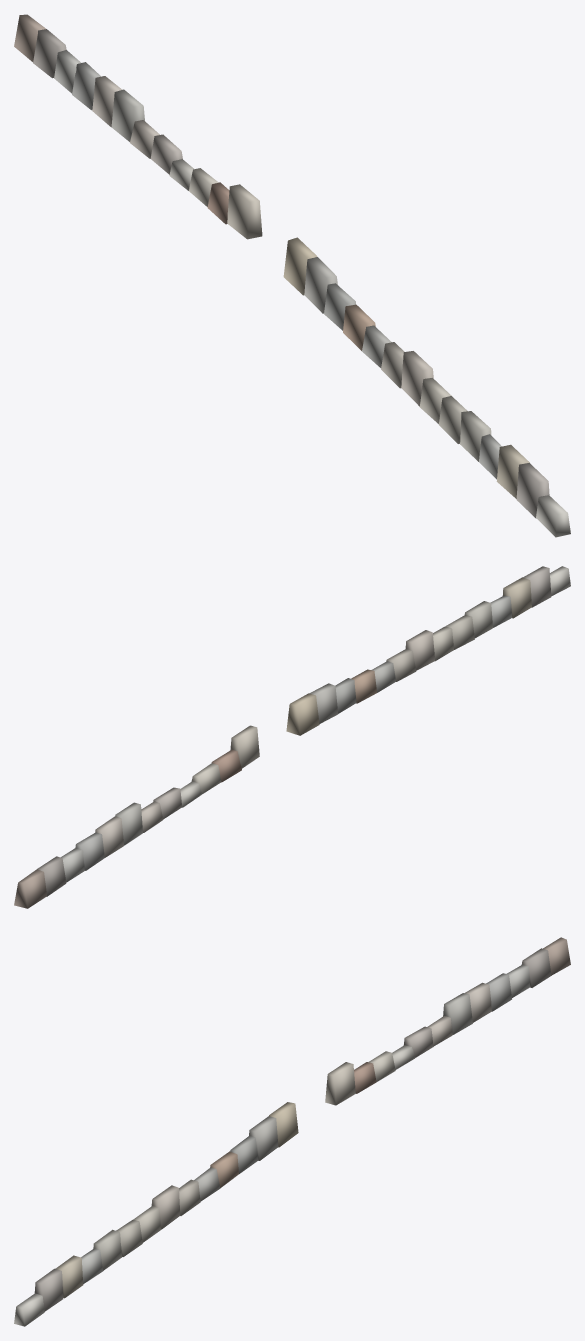
File: farm_21_14_far.glb
3 renders of one model, top to bottom at view 1: azimuth 30°, elevation 25°; view 2: azimuth 150°, elevation 25°; view 3: azimuth 330°, elevation 25°, orthographic. The views are drawn at different scales.
Visible parts, largest first — view 1: geometry_0; view 2: geometry_0; view 3: geometry_0.
Part boxes in pixels (x1,y1,x2,y2): geometry_0: [14, 14, 570, 537]; geometry_0: [14, 566, 570, 908]; geometry_0: [14, 937, 570, 1326].
Bounding box in the file's own units: 3.72 × 2.75 × 44.7.
